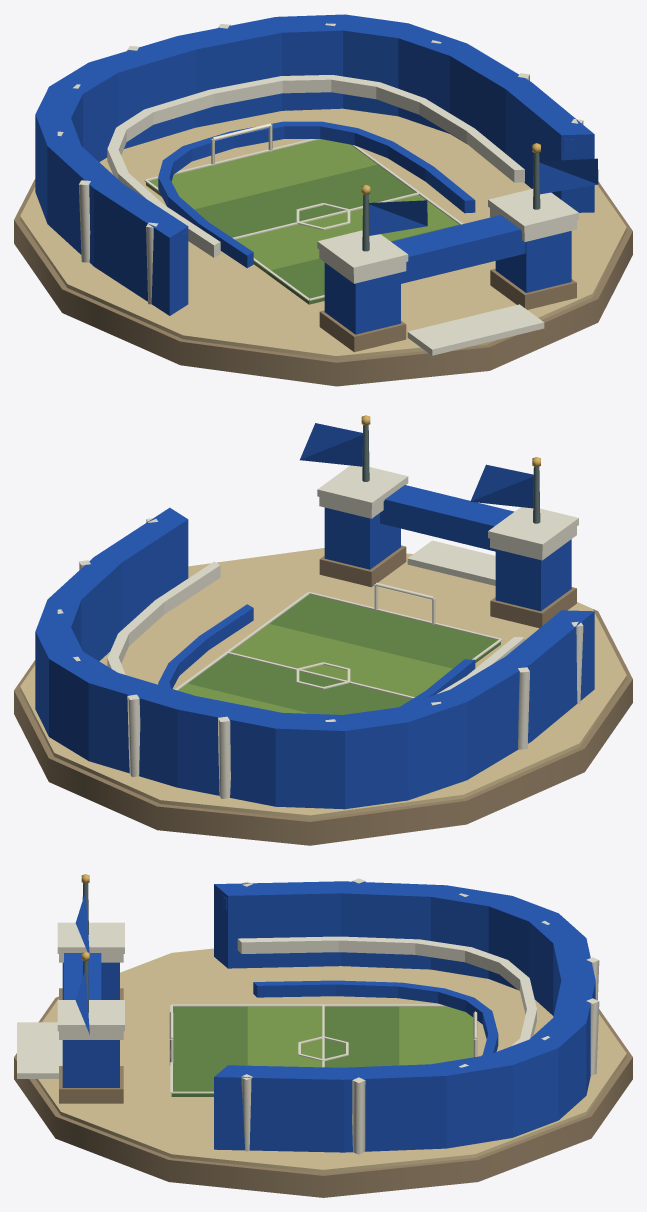
The model's file is main-stadium-lv1.glb.
3 views of the same model, one above another, from view 1: azimuth 30°, elevation 25°; view 2: azimuth 150°, elevation 25°; view 3: azimuth 270°, elevation 25° (orthographic). The views are drawn at different scales.
Parts seen in each view (by area): view 1: stadium_shell_royal, foundation_sand, foundation_stoneDark, pitch_grassLight, seating_white, pitch_grass, seating_royal, entrance_pylons_royal, entrance_bridge_royal, entrance_pylons_roof_white, entrance_steps_white, flags_royal (+5 smaller); view 2: stadium_shell_royal, foundation_sand, foundation_stoneDark, pitch_grass, pitch_grassLight, entrance_pylons_royal, entrance_pylons_roof_white, entrance_bridge_royal, flags_royal, facade_ribs_white, seating_white, entrance_pylons_stoneDark (+5 smaller); view 3: stadium_shell_royal, foundation_sand, foundation_stoneDark, pitch_grass, pitch_grassLight, seating_white, seating_royal, entrance_pylons_roof_white, entrance_pylons_royal, facade_ribs_white, entrance_steps_white, pitch_lines_white (+5 smaller).
Boxes of the visible parts, x1=… form: stadium_shell_royal: x1=35, y1=14, x2=594, y2=315; foundation_sand: x1=20, y1=108, x2=626, y2=359; foundation_stoneDark: x1=14, y1=179, x2=632, y2=386; pitch_grassLight: x1=146, y1=139, x2=458, y2=274; seating_white: x1=107, y1=75, x2=524, y2=257; pitch_grass: x1=194, y1=164, x2=459, y2=304; seating_royal: x1=158, y1=121, x2=574, y2=268; entrance_pylons_royal: x1=324, y1=231, x2=571, y2=334; entrance_bridge_royal: x1=391, y1=215, x2=525, y2=283; entrance_pylons_roof_white: x1=317, y1=188, x2=578, y2=274; entrance_steps_white: x1=407, y1=304, x2=544, y2=355; flags_royal: x1=369, y1=158, x2=598, y2=235; stadium_shell_royal: x1=35, y1=507, x2=594, y2=809; foundation_sand: x1=20, y1=548, x2=626, y2=819; foundation_stoneDark: x1=14, y1=609, x2=632, y2=845; pitch_grass: x1=188, y1=594, x2=500, y2=714; pitch_grassLight: x1=178, y1=624, x2=452, y2=713; entrance_pylons_royal: x1=324, y1=507, x2=571, y2=611; entrance_pylons_roof_white: x1=317, y1=465, x2=578, y2=551; entrance_bridge_royal: x1=380, y1=485, x2=514, y2=551; flags_royal: x1=300, y1=423, x2=533, y2=508; facade_ribs_white: x1=57, y1=518, x2=583, y2=798; seating_white: x1=107, y1=561, x2=524, y2=693; entrance_pylons_stoneDark: x1=319, y1=545, x2=576, y2=628; stadium_shell_royal: x1=214, y1=881, x2=595, y2=1152; foundation_sand: x1=35, y1=948, x2=626, y2=1173; foundation_stoneDark: x1=14, y1=996, x2=632, y2=1197; pitch_grass: x1=171, y1=1006, x2=399, y2=1096; pitch_grassLight: x1=247, y1=1006, x2=473, y2=1067; seating_white: x1=237, y1=936, x2=536, y2=1046; seating_royal: x1=222, y1=895, x2=498, y2=1055; entrance_pylons_roof_white: x1=57, y1=922, x2=124, y2=1031; entrance_pylons_royal: x1=62, y1=962, x2=119, y2=1087; facade_ribs_white: x1=241, y1=878, x2=599, y2=1154; entrance_steps_white: x1=17, y1=1022, x2=62, y2=1078; pitch_lines_white: x1=170, y1=1004, x2=447, y2=1093.
Size of the model in its own units: 0.9074 by 0.2968 by 1.
